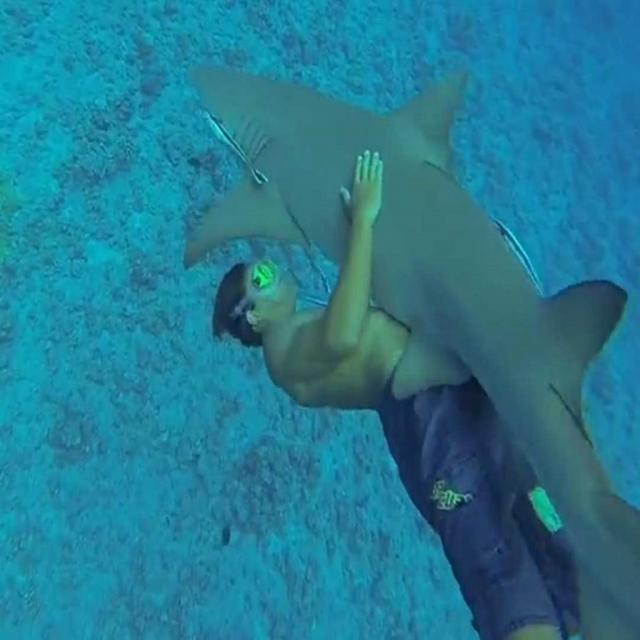nomask: (248, 258, 298, 305)
